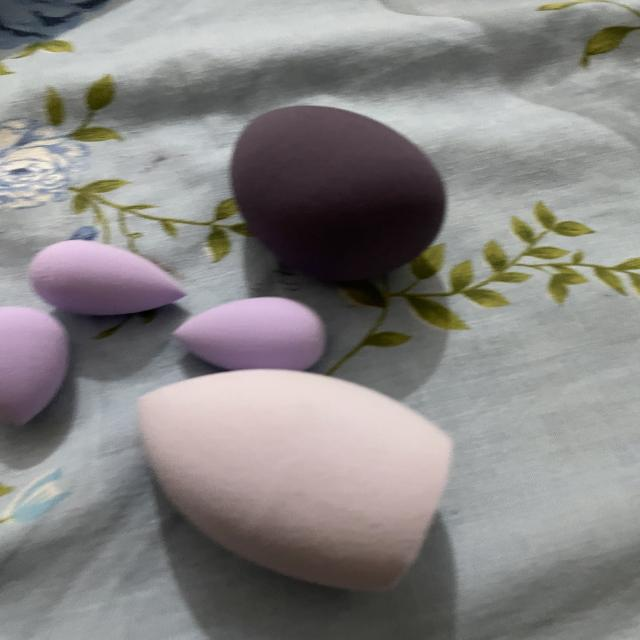beauty blender: (119, 356, 466, 607), (221, 94, 463, 283), (18, 232, 194, 324), (167, 290, 329, 382), (0, 294, 78, 435)
